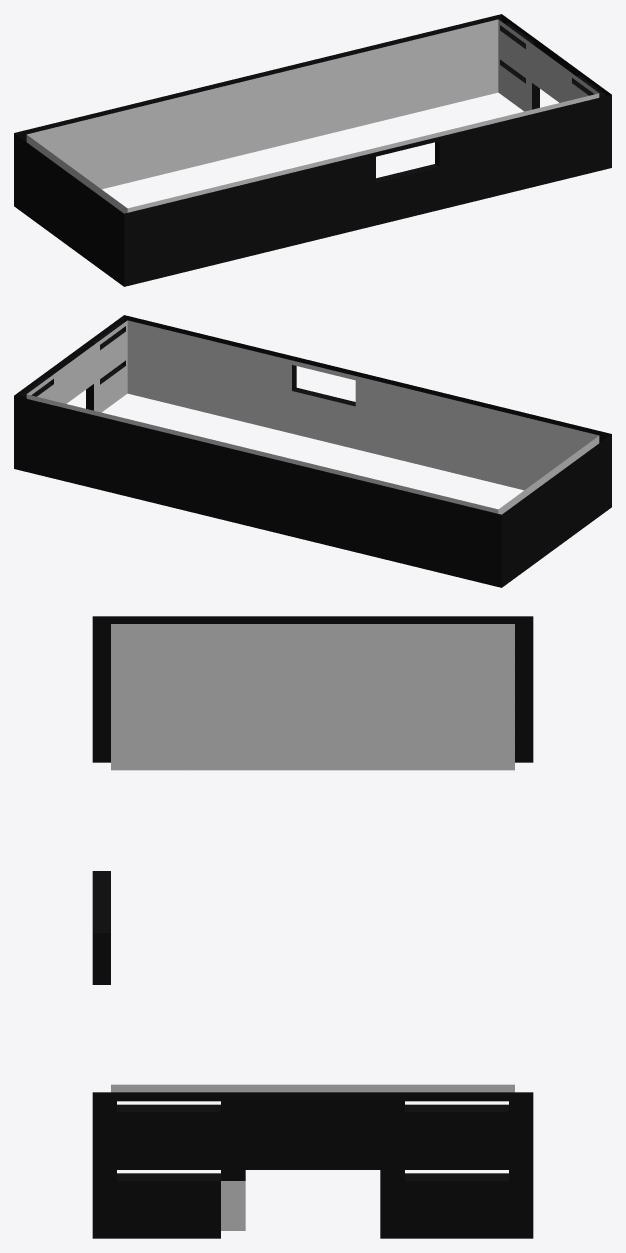
Rendered from Steny_1_2PP.obj.
3 renders of one model, top to bottom at view 1: azimuth 30°, elevation 25°; view 2: azimuth 150°, elevation 25°; view 3: azimuth 270°, elevation 25°, orthographic. The views are drawn at different scales.
Parts seen in each view (by area): view 1: Steny_1_2PP; view 2: Steny_1_2PP; view 3: Steny_1_2PP.
Boxes of the visible parts, x1=… form: Steny_1_2PP: x1=14, y1=14, x2=611, y2=286; Steny_1_2PP: x1=14, y1=315, x2=611, y2=587; Steny_1_2PP: x1=92, y1=616, x2=533, y2=1238.
Size of the model in its own units: 3.39 by 0.4864 by 1.33.
Materials: 2 (1 with a texture image).
